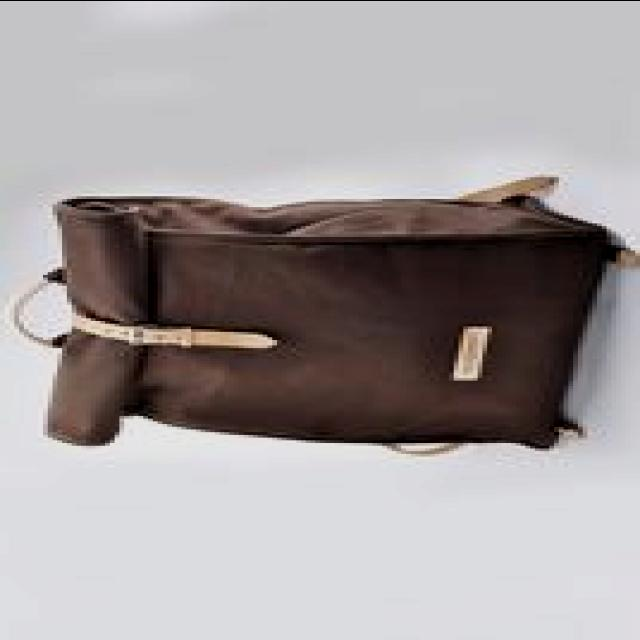backpack: (6, 177, 636, 457)
